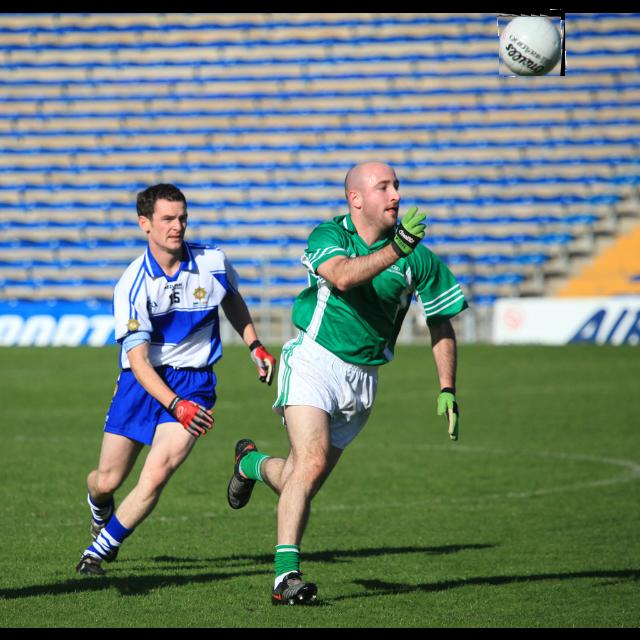Football: (499, 10, 565, 76)
